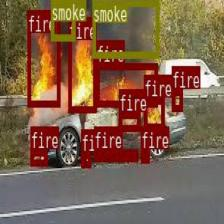fire: (27, 9, 59, 105), (68, 16, 96, 111), (96, 63, 157, 105), (144, 97, 164, 128), (94, 148, 138, 161), (118, 111, 140, 130), (30, 148, 46, 165), (170, 88, 182, 110), (81, 152, 91, 167), (140, 148, 149, 162)
smoke: (92, 0, 158, 57), (50, 0, 74, 39)
